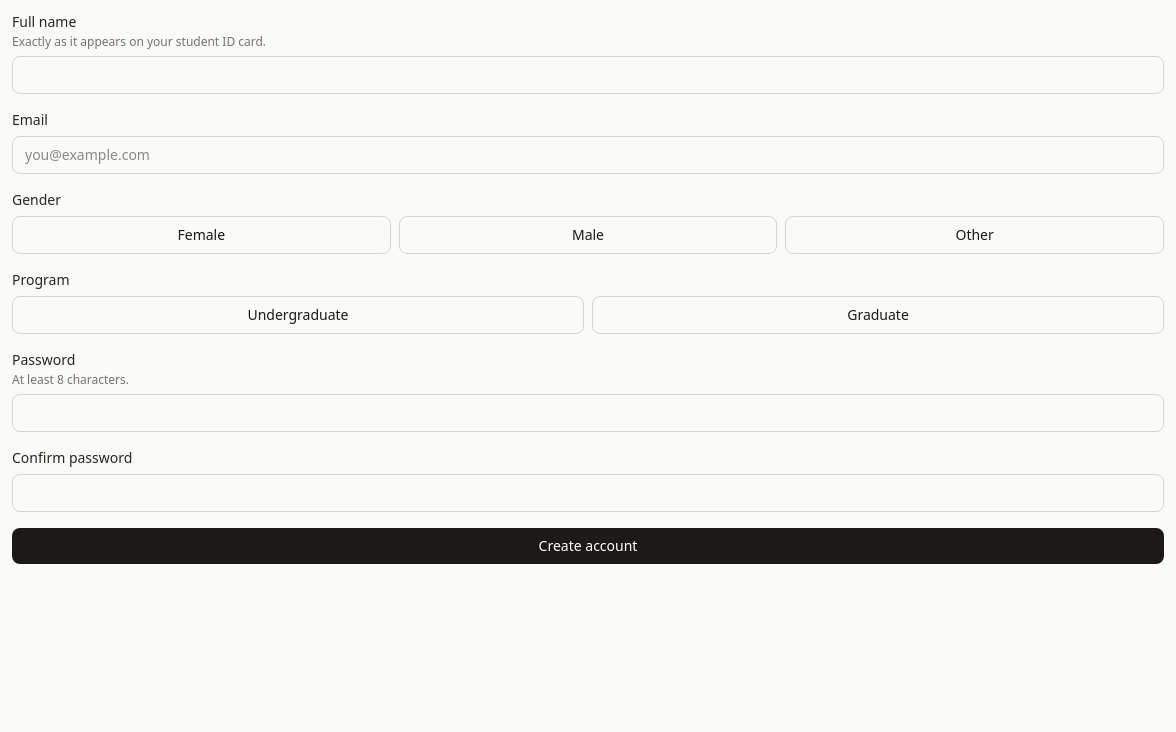
signup form › requires every field
Step 1. Click the button "Create account" → (588, 546), box [12,528,1164,564]
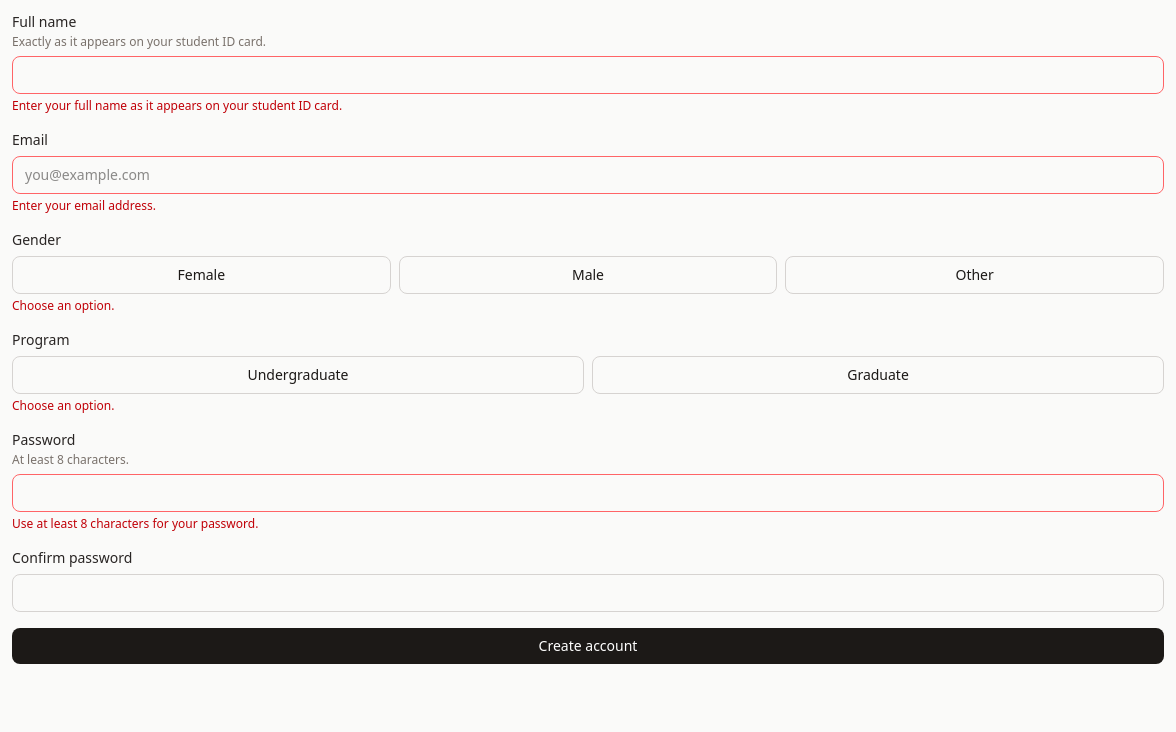
expect the text "Enter your full name as it appears on your student ID card." is shown: met, box [12,97,342,114]
expect the text "Enter your email address." is shown: met, box [12,197,156,214]
expect the text "Use at least 8 characters for your password." is shown: met, box [12,515,258,532]
